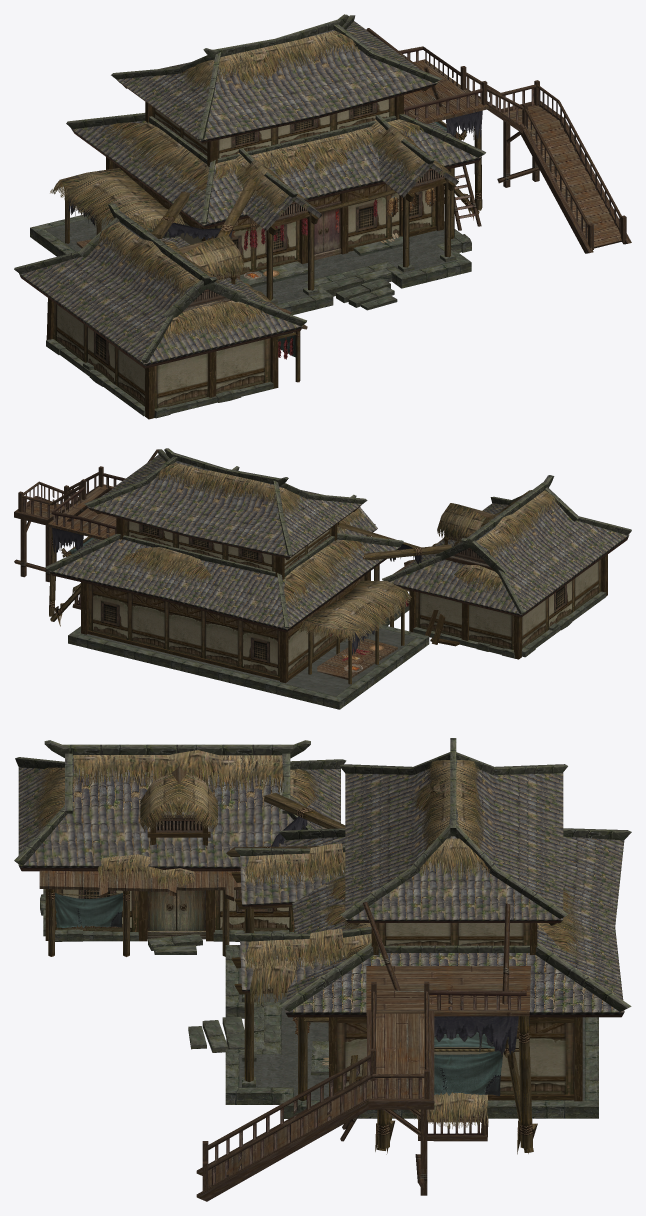
Rendered from minju_yc_31.fbx.
3 renders of one model, top to bottom at view 1: azimuth 30°, elevation 25°; view 2: azimuth 150°, elevation 25°; view 3: azimuth 270°, elevation 25°, orthographic. The views are drawn at different scales.
Parts seen in each view (by area): view 1: minju_yc_31; view 2: minju_yc_31; view 3: minju_yc_31.
Boxes of the visible parts, <box> form: minju_yc_31: <box>14,14,631,419</box>; minju_yc_31: <box>14,448,631,709</box>; minju_yc_31: <box>14,738,631,1201</box>.
Size of what is drawn, in the model's own units: 2981 by 1065 by 2204.
